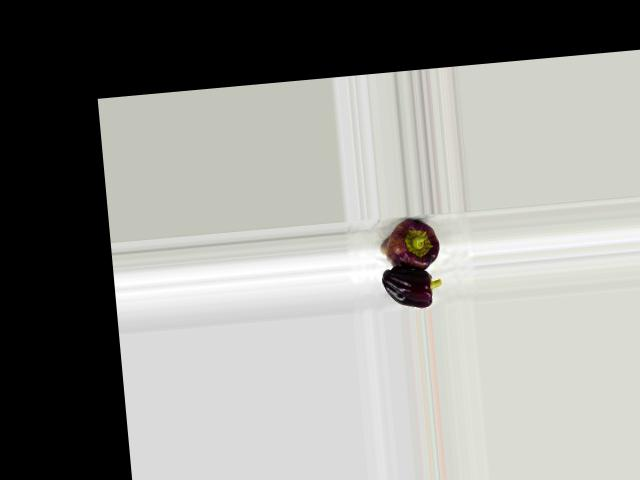bell_pepper: (367, 214, 453, 275)
